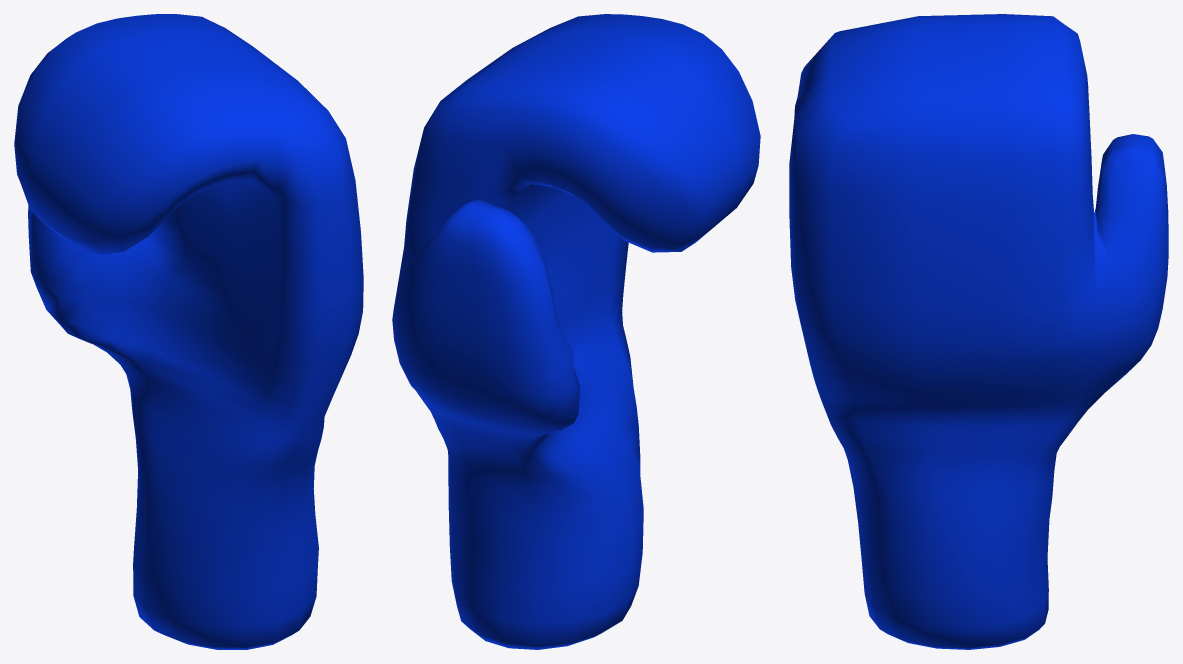
Rendered from LEFT HAND.fbx.
The picture shows the model from 3 angles, left to right: view 1: azimuth 30°, elevation 25°; view 2: azimuth 150°, elevation 25°; view 3: azimuth 270°, elevation 25°; orthographic projection. The views are drawn at different scales.
Visible parts, largest first — view 1: LEFT HAND; view 2: LEFT HAND; view 3: LEFT HAND.
Boxes of the visible parts, x1,y1,x2,y2 form: LEFT HAND: (14,14,363,649); LEFT HAND: (392,14,760,649); LEFT HAND: (789,14,1168,649).
Size of the model in its own units: 431 by 860 by 527.
